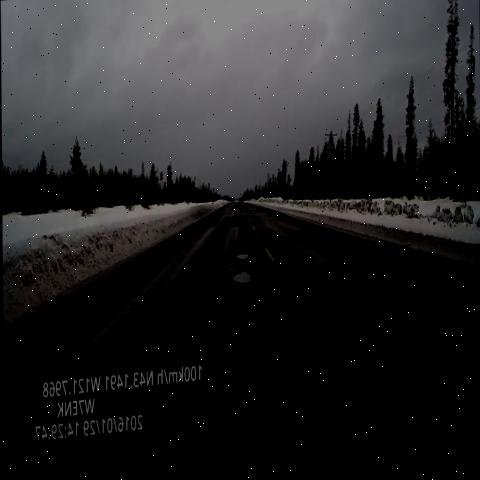pothole: (294, 226, 345, 269), (223, 269, 258, 294), (224, 251, 254, 273), (223, 213, 247, 238)
